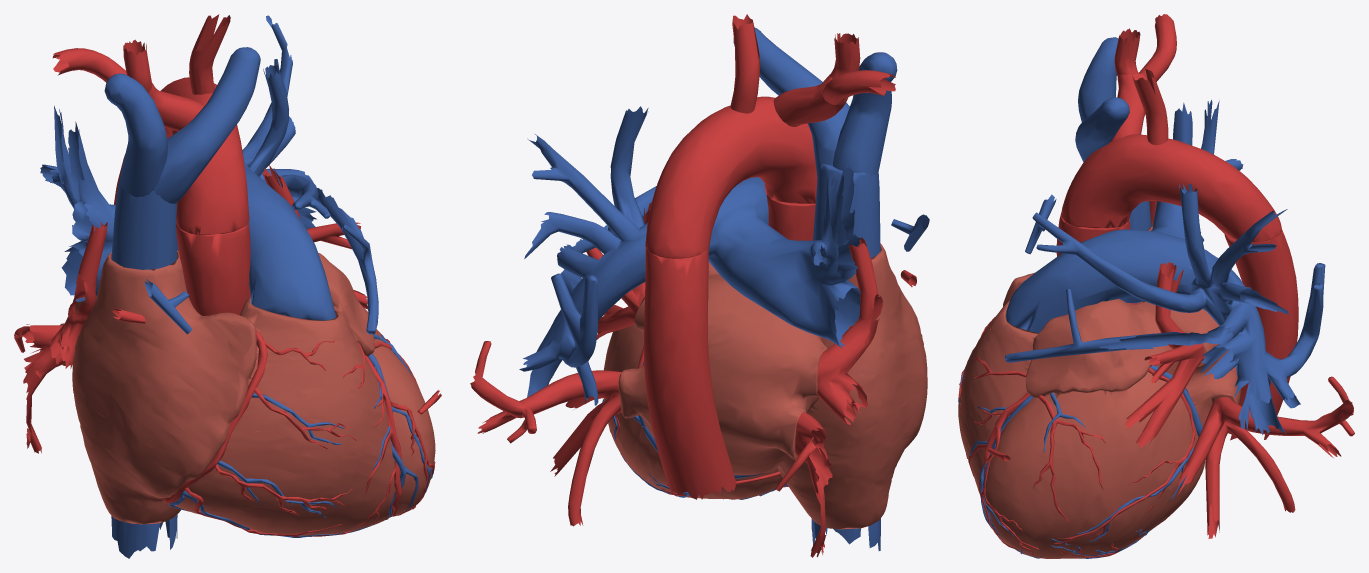
The model's file is heart-lite.glb.
3 views of the same model, side by side, from view 1: azimuth 30°, elevation 25°; view 2: azimuth 150°, elevation 25°; view 3: azimuth 270°, elevation 25° (orthographic). The views are drawn at different scales.
Parts seen in each view (by area): view 1: Heart_wall, Pulmonary_arteries, Venae_cavae, Aorta_and_arch_branches, Pulmonary_veins, Coronary_arteries, Cardiac_veins; view 2: Heart_wall, Aorta_and_arch_branches, Pulmonary_arteries, Pulmonary_veins, Venae_cavae, Cardiac_veins; view 3: Heart_wall, Pulmonary_arteries, Aorta_and_arch_branches, Pulmonary_veins, Venae_cavae, Coronary_arteries, Cardiac_veins.
Boxes of the visible parts, x1,y1,x2,y2 form: Heart_wall: (60,250,435,535); Pulmonary_arteries: (40,15,378,334); Venae_cavae: (104,47,260,558); Aorta_and_arch_branches: (52,14,250,315); Pulmonary_veins: (14,165,441,453); Coronary_arteries: (162,330,435,536); Cardiac_veins: (168,334,432,537); Heart_wall: (603,243,927,529); Aorta_and_arch_branches: (643,14,895,499); Pulmonary_arteries: (519,106,929,405); Pulmonary_veins: (470,202,916,557); Venae_cavae: (733,27,897,550); Cardiac_veins: (602,361,787,499); Heart_wall: (958,221,1241,558); Pulmonary_arteries: (1004,100,1325,434); Aorta_and_arch_branches: (1056,14,1298,440); Pulmonary_veins: (988,201,1354,538); Venae_cavae: (1075,37,1151,230); Coronary_arteries: (958,317,1195,558); Cardiac_veins: (958,365,1202,558).
Bounding box in the file's own units: 1.29 × 2 × 1.59.
